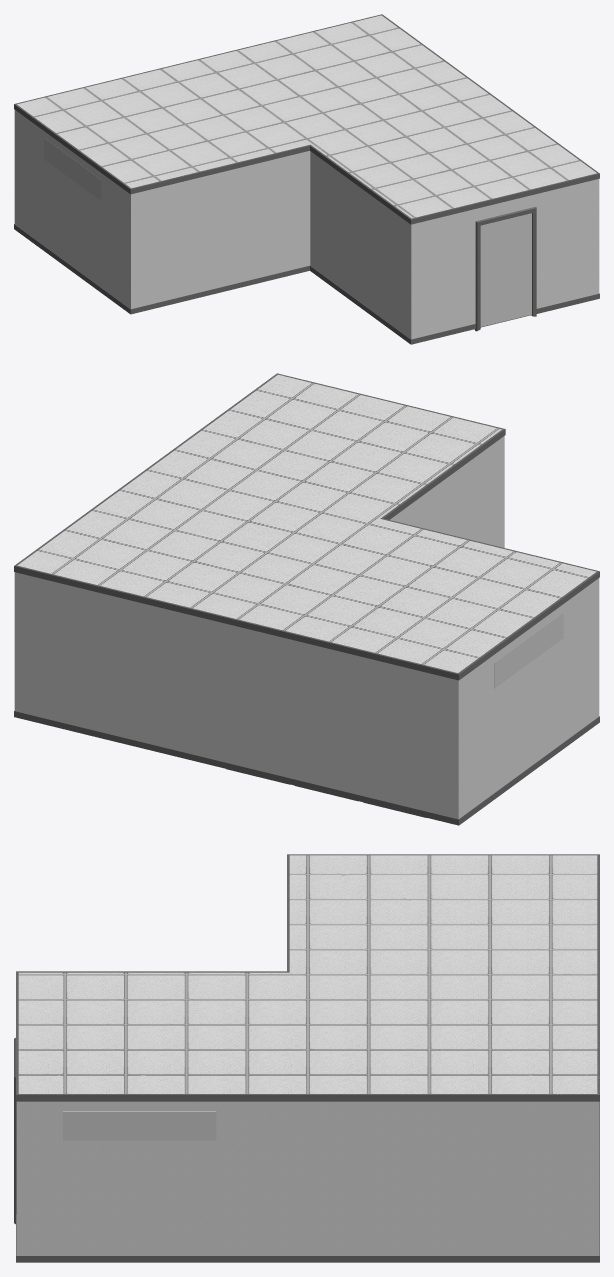
File: Office.fbx
The picture shows the model from 3 angles, top to bottom: view 1: azimuth 30°, elevation 25°; view 2: azimuth 150°, elevation 25°; view 3: azimuth 270°, elevation 25°; orthographic projection. The views are drawn at different scales.
Parts seen in each view (by area): view 1: Cube, Cube.025, Cube.029, aircon.001; view 2: Cube, Cube.025, aircon.001; view 3: Cube, Cube.025, aircon.
Boxes of the visible parts, x1=… form: Cube: x1=14, y1=15, x2=599, y2=339; Cube.025: x1=14, y1=14, x2=599, y2=344; Cube.029: x1=474, y1=207, x2=536, y2=331; aircon.001: x1=44, y1=138, x2=101, y2=200; Cube: x1=14, y1=374, x2=599, y2=819; Cube.025: x1=14, y1=373, x2=599, y2=825; aircon.001: x1=494, y1=612, x2=563, y2=688; Cube: x1=16, y1=855, x2=599, y2=1255; Cube.025: x1=16, y1=854, x2=599, y2=1262; aircon: x1=63, y1=1111, x2=216, y2=1140.
Bounding box in the file's own units: 1235 × 407 × 1267.
Materials: 16 (7 with a texture image).
